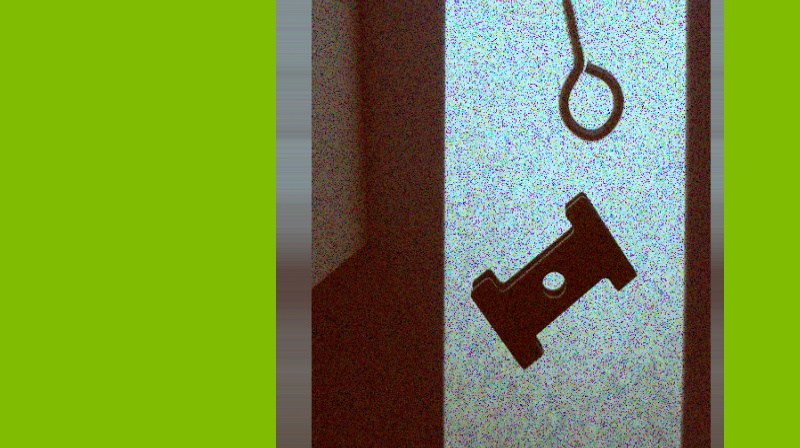O001: (548, 0, 623, 142)
O002: (470, 191, 636, 372)
